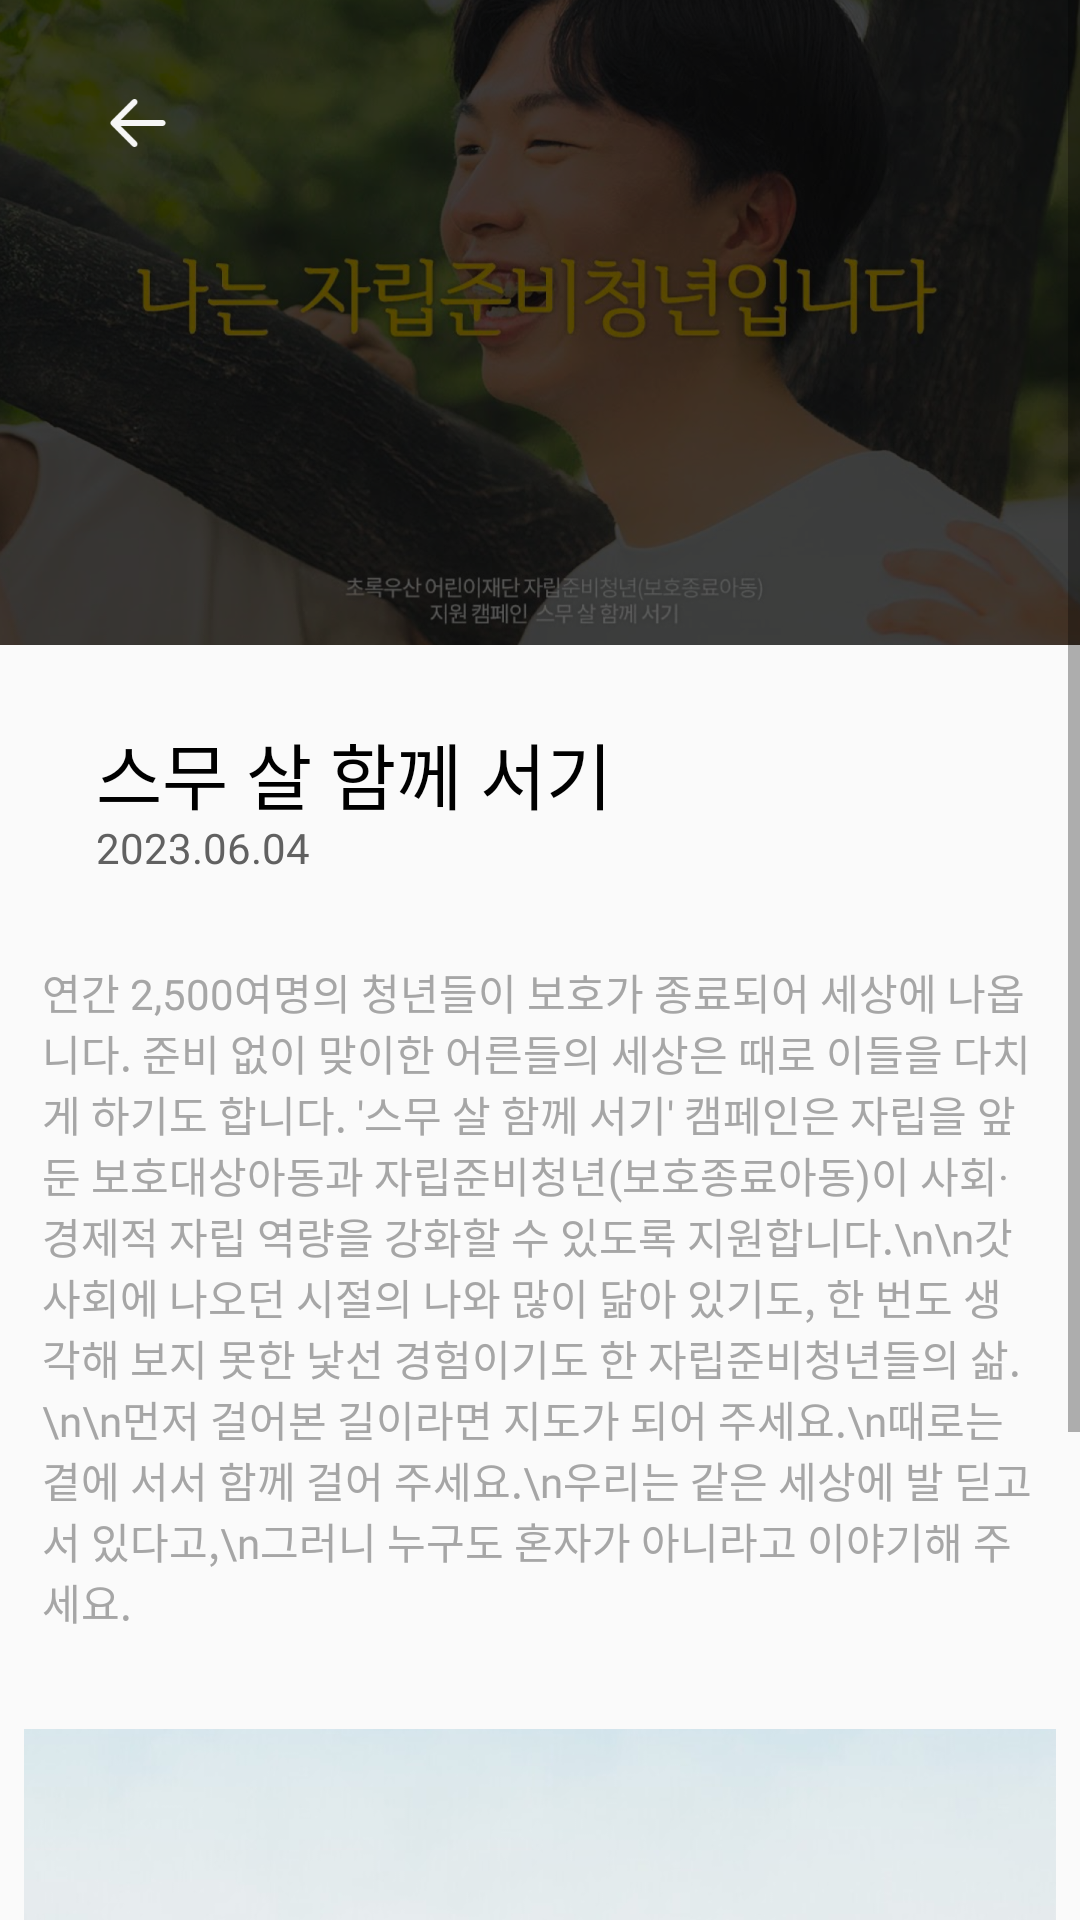

Where icons sit on this 1080px×1920px app screen, as BBox(x1, y1, x2, y2):
back: BBox(110, 99, 166, 147)
